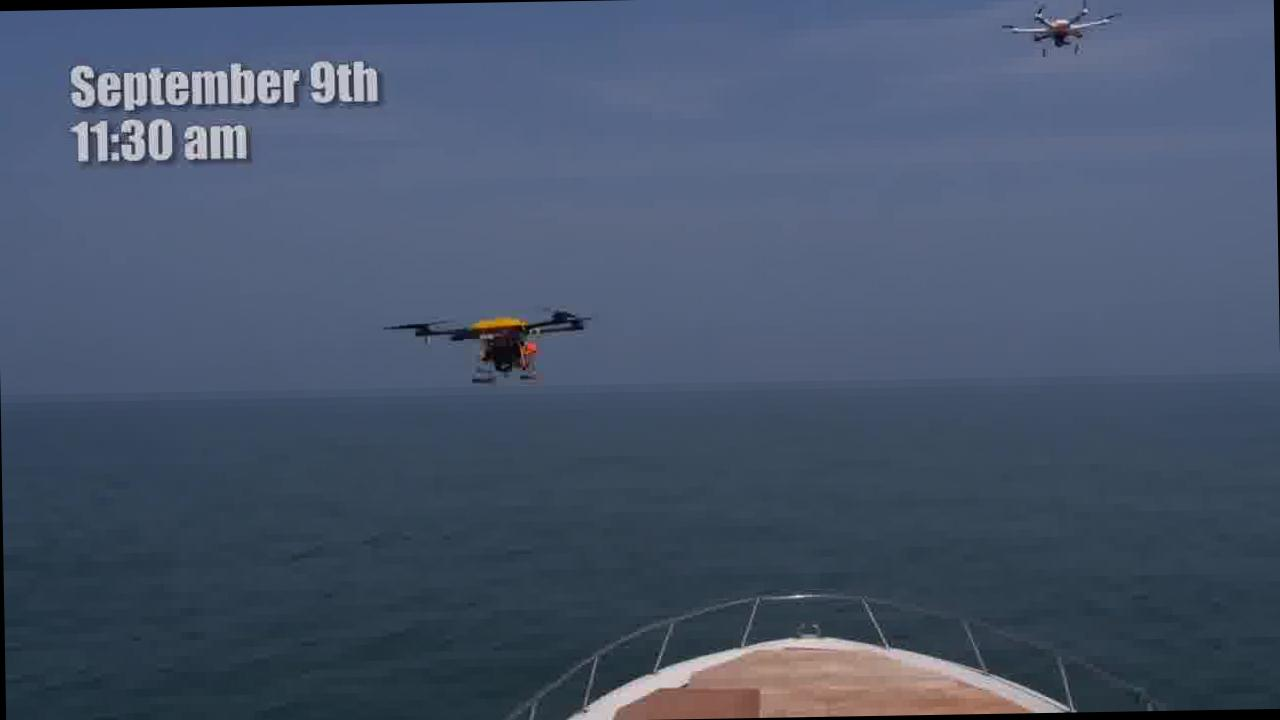drone: (396, 303, 592, 384), (1000, 0, 1114, 56)
